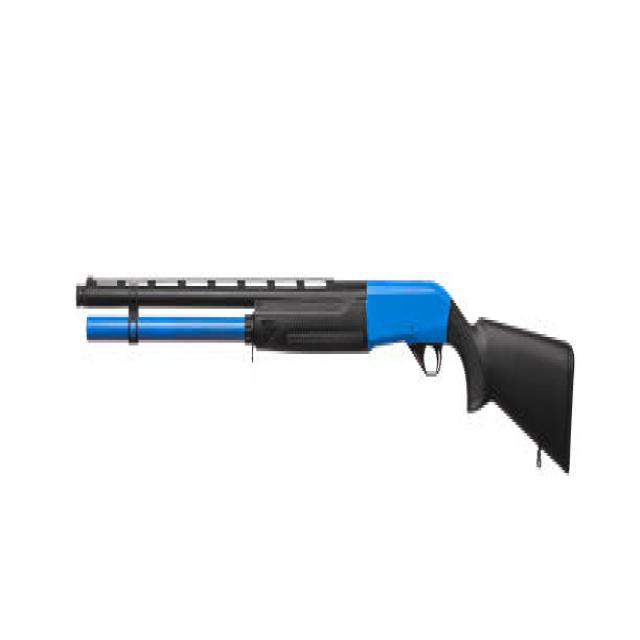rifle: (76, 230, 582, 484)
